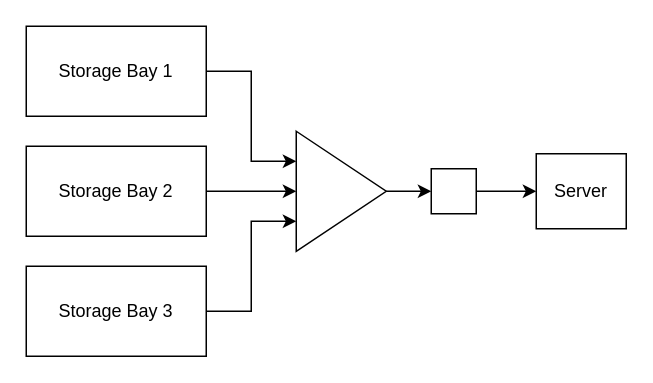
This 653x383 diagram has some shape labels left out. The shapes that lost their labels are listed below. From the top down, each one's centre as x and y in pixels, then its label:
pixel 340 190: Voter
pixel 453 190: Bus
